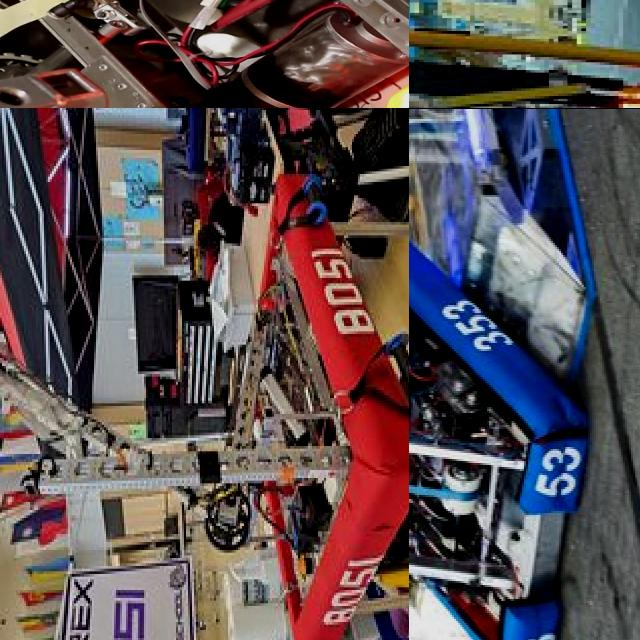FRC-Robots: (0, 154, 409, 640), (409, 233, 594, 640), (0, 0, 409, 108), (409, 0, 640, 108)
